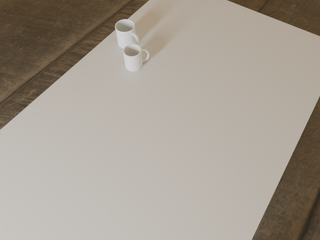cup: (123, 44, 149, 71), (115, 19, 139, 48)
